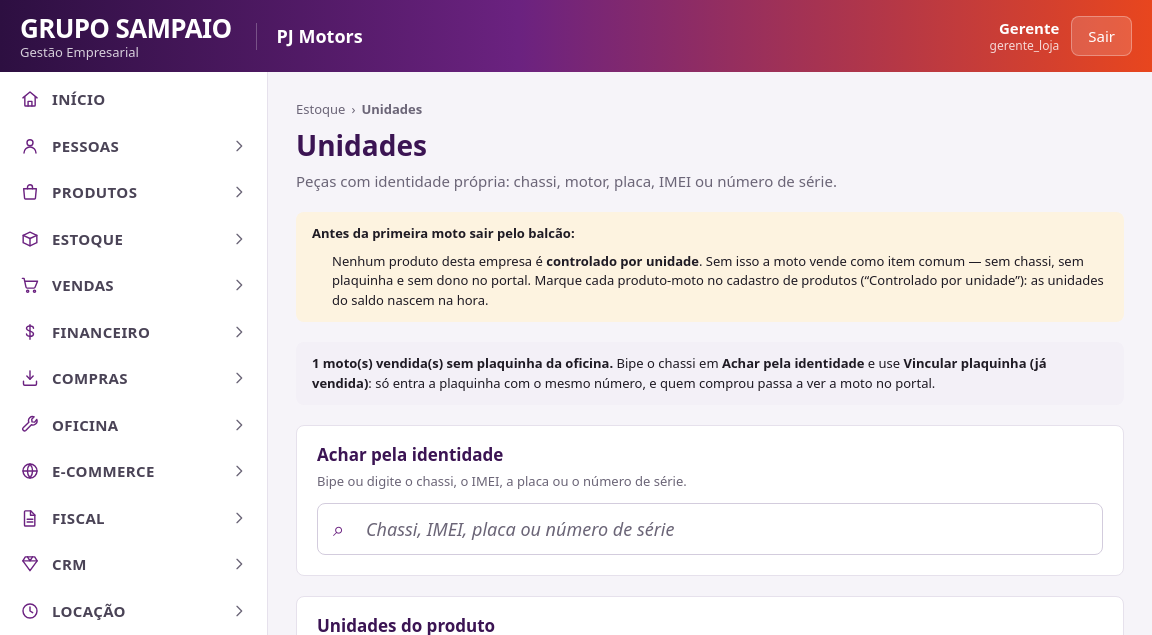
Test: GAP-PRD-108 — a moto vendida sem plaquinha ganha o vínculo pela tela › a fila avisa, o chassi bipado abre o vínculo tardio e a lista vem pela identidade da moto vendida
Expected: the text "1 moto(s) vendida(s) sem plaquinha da oficina." is shown, x1=312 y1=354 x2=613 y2=372
Type "CH-TARDIA" into the field with placeholder "Chassi, IMEI, placa ou número de série" at (710, 529), box x1=317 y1=503 x2=1103 y2=555
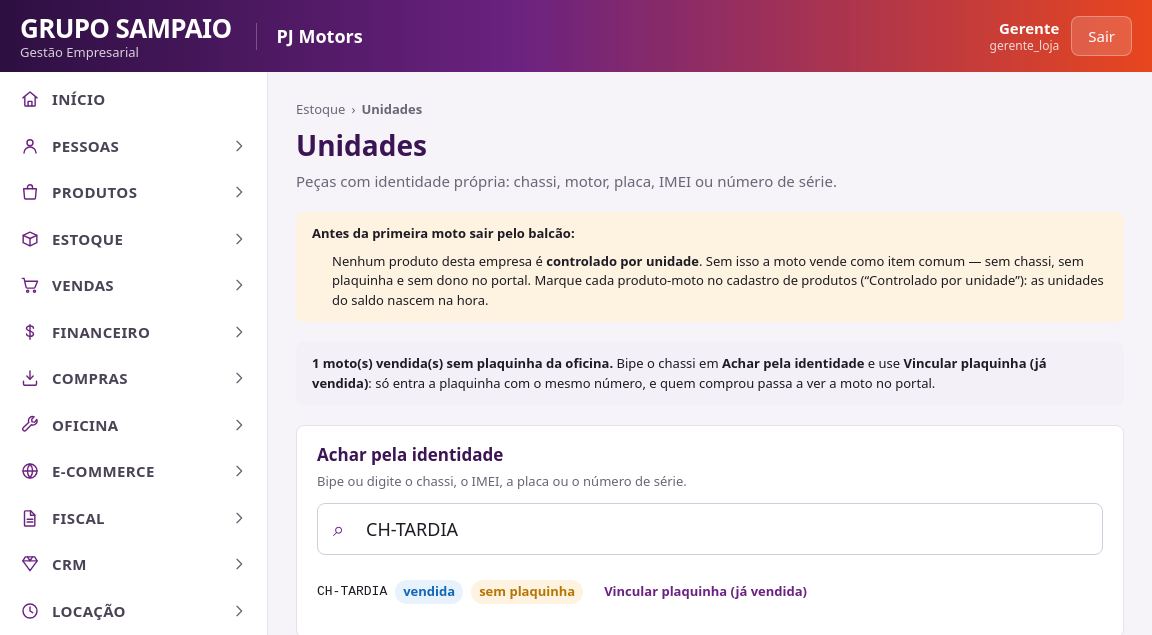
Click the button "Vincular plaquinha (já vendida)" at (706, 592), box x1=591 y1=575 x2=820 y2=608
(page scrolled)
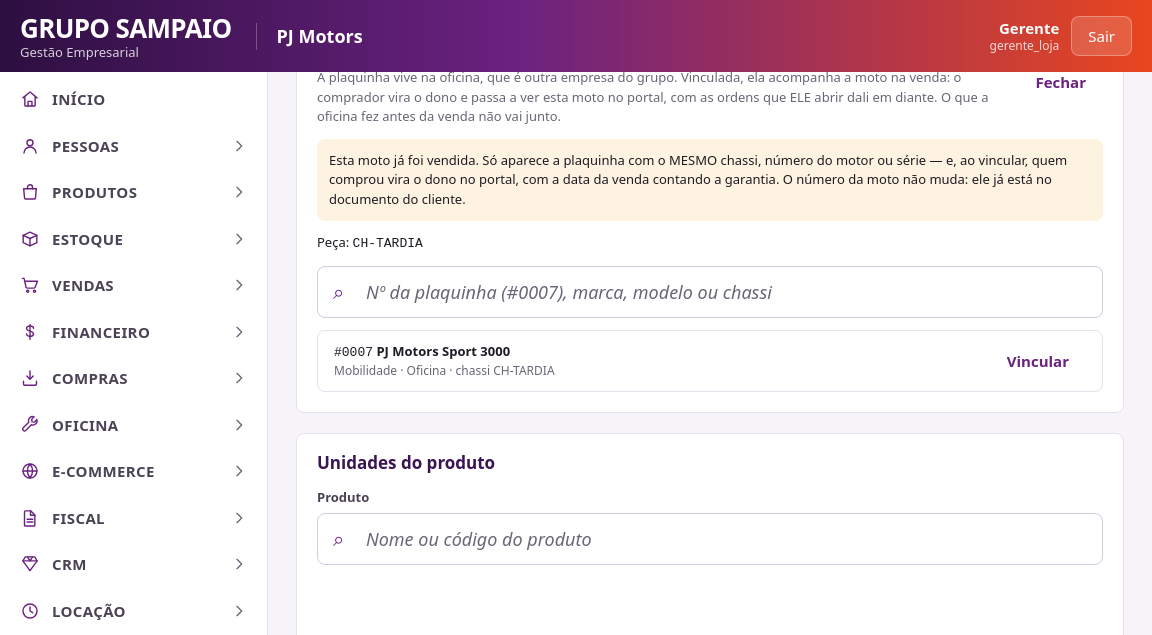
Result: the text "Esta moto já foi vendida" is shown at x1=329 y1=150 x2=1067 y2=208
Result: the text "#0007" is shown at x1=334 y1=344 x2=373 y2=360
Click the button "Vincular" at (1038, 361), box x1=990 y1=340 x2=1086 y2=381
(page scrolled)
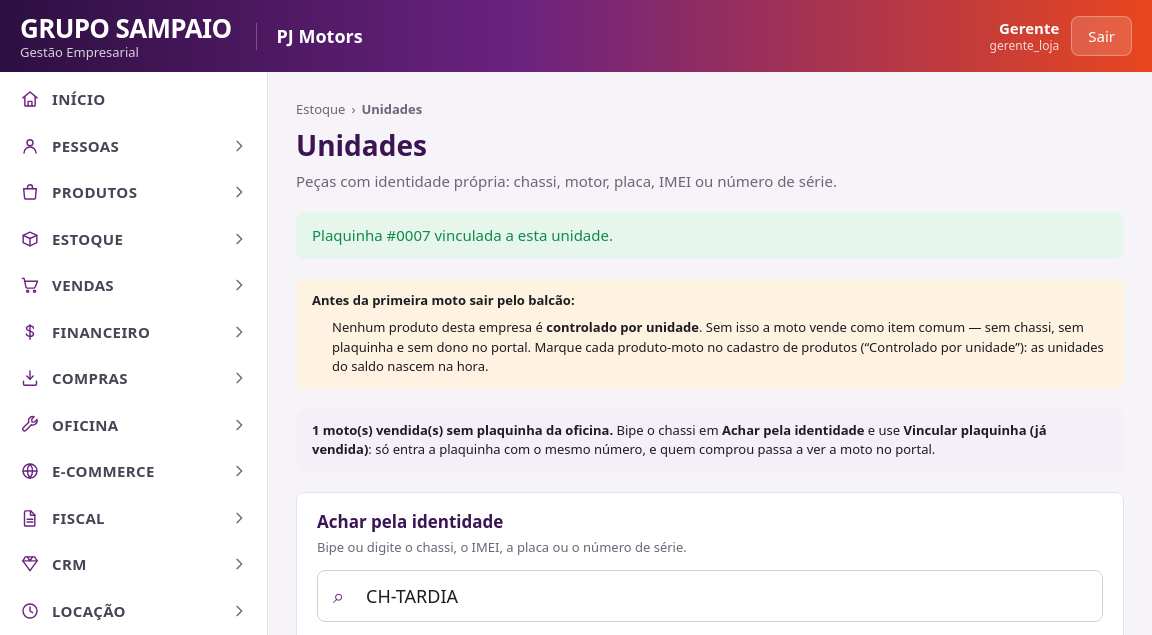
Result: the text "Plaquinha #0007 vinculada a esta unidade." is shown at x1=296 y1=212 x2=1124 y2=258
